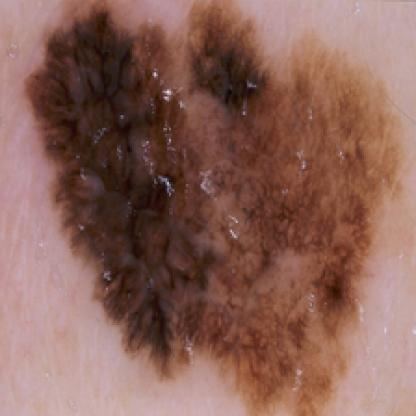Skin_Cancer-Malignant: (23, 1, 416, 416)
